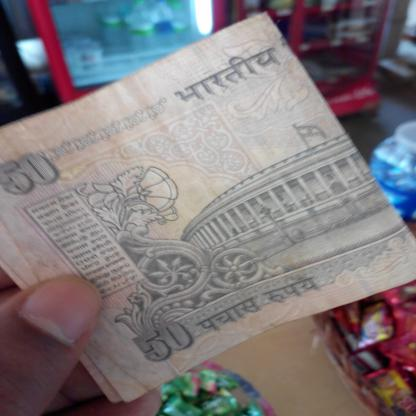Old50Back: (0, 10, 416, 404)
